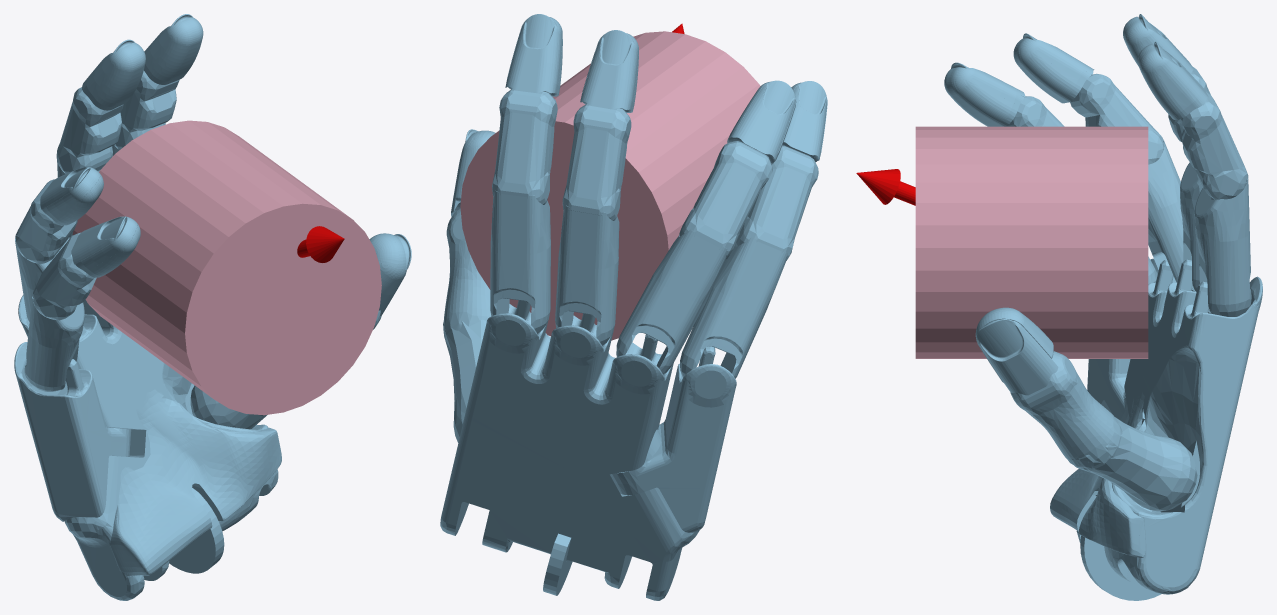
The picture shows the model from 3 angles, left to right: view 1: azimuth 30°, elevation 25°; view 2: azimuth 150°, elevation 25°; view 3: azimuth 270°, elevation 25°; orthographic projection. The views are drawn at different scales.
Visible parts, largest first — view 1: world, cylinder_medium.stl; view 2: world, cylinder_medium.stl; view 3: world, cylinder_medium.stl.
Part boxes in pixels (box(x1,y1,x2,y2)): world: box(14, 14, 411, 600); cylinder_medium.stl: box(72, 120, 381, 415); world: box(440, 14, 827, 600); cylinder_medium.stl: box(460, 31, 760, 340); world: box(856, 14, 1262, 600); cylinder_medium.stl: box(915, 126, 1148, 358).
Size of the model in its own units: 0.1369 by 0.2125 by 0.14.
